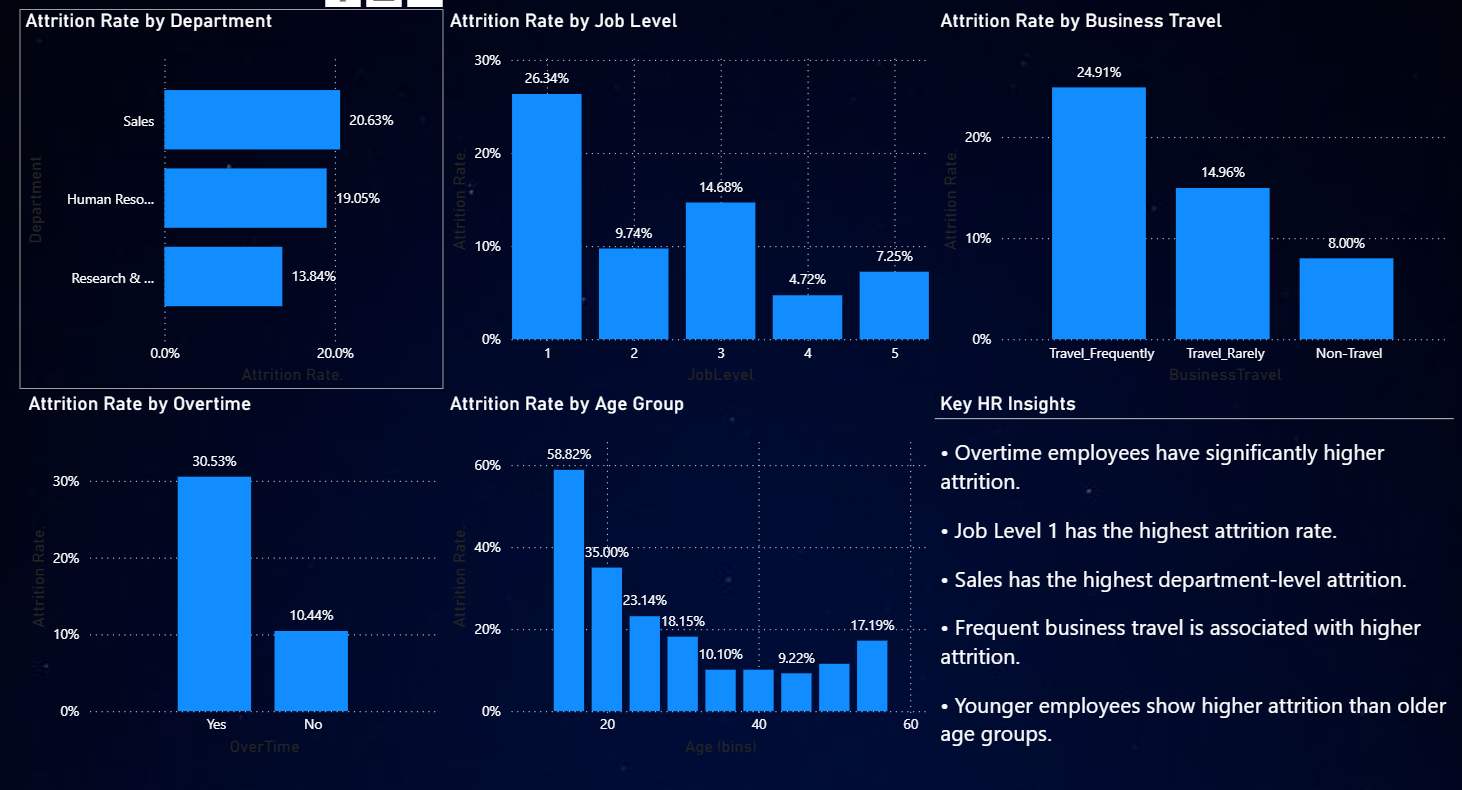

This screenshot's page, from the dashboard's own definition file:
{"tool":"powerbi","page":{"name":"HR Insights","canvas":[1280,720],"ordinal":1},"visuals":[{"type":"clusteredBarChart","title":"Attrition Rate by Department","fields":{"Category":["hr_analytics employees.Department"],"Y":["hr_analytics employees.Attrition Rate."]},"box":[17.3,28.9,369.8,331.2],"z":0},{"type":"clusteredColumnChart","title":"Attrition Rate by Overtime","fields":{"Category":["hr_analytics employees.OverTime"],"Y":["hr_analytics employees.Attrition Rate."]},"box":[19.3,362.1,367.8,321.6],"z":1},{"type":"clusteredColumnChart","title":"Attrition Rate by Job Level","fields":{"Category":["hr_analytics employees.JobLevel"],"Y":["hr_analytics employees.Attrition Rate."]},"box":[387,28.8,427.6,330.8],"z":2},{"type":"clusteredColumnChart","title":"Attrition Rate by Age Group","fields":{"Category":["hr_analytics employees.Age (bins)"],"Y":["hr_analytics employees.Attrition Rate."]},"box":[387.1,362.1,427.5,321.6],"z":3},{"type":"clusteredColumnChart","title":"Attrition Rate by Business Travel","fields":{"Category":["hr_analytics employees.BusinessTravel"],"Y":["hr_analytics employees.Attrition Rate."]},"box":[814.6,28.8,452.4,330.8],"z":4},{"type":"textbox","title":"Key HR Insights","box":[814.6,362.2,452.4,321.7],"z":5}]}

Visuals, with their boxes on the page's 1280x720 design canvas (x1, y1, x2, y2). These are canvas units, not pixel positions in the 1462x790 screenshot, which may show the page scaled, cropped or inside an application window:
"Attrition Rate by Department" clusteredBarChart: box(17, 29, 387, 360)
"Attrition Rate by Overtime" clusteredColumnChart: box(19, 362, 387, 684)
"Attrition Rate by Job Level" clusteredColumnChart: box(387, 29, 815, 360)
"Attrition Rate by Age Group" clusteredColumnChart: box(387, 362, 815, 684)
"Attrition Rate by Business Travel" clusteredColumnChart: box(815, 29, 1267, 360)
"Key HR Insights" textbox: box(815, 362, 1267, 684)
